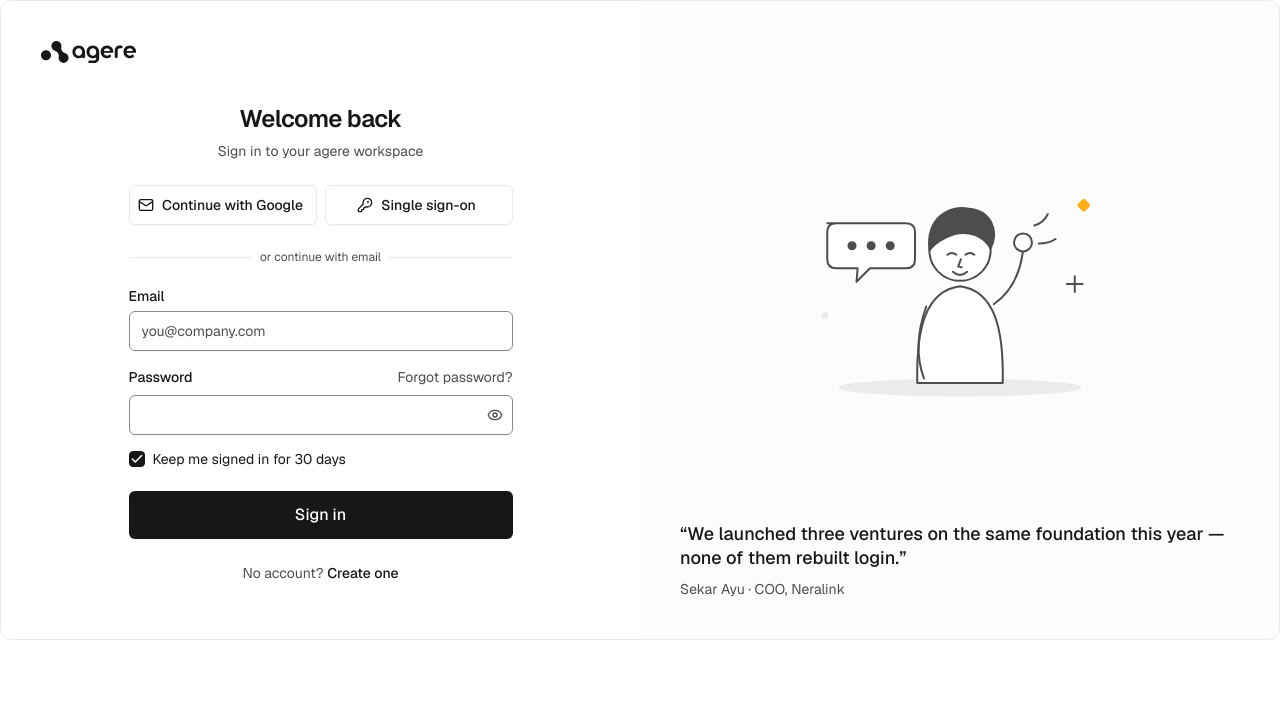
Scenario: Auth blocks › AuthFlow navigates login → forgot → back
This screenshot has width=1280, height=720.
Click the button "Forgot password?" at (455, 377), box [397,367,512,387]
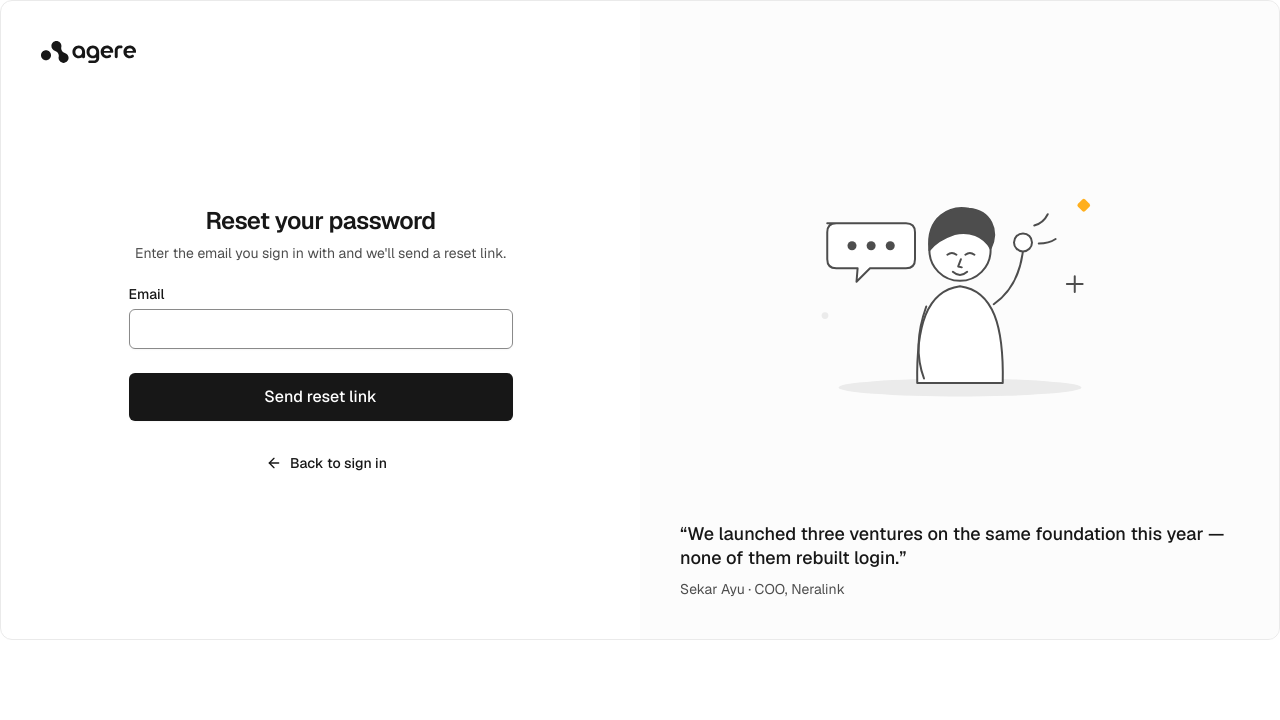
Check: the heading "Reset your password" is shown, box [206,205,435,236]
Click the button "Back to sign in" at (320, 463), box [128,445,512,481]
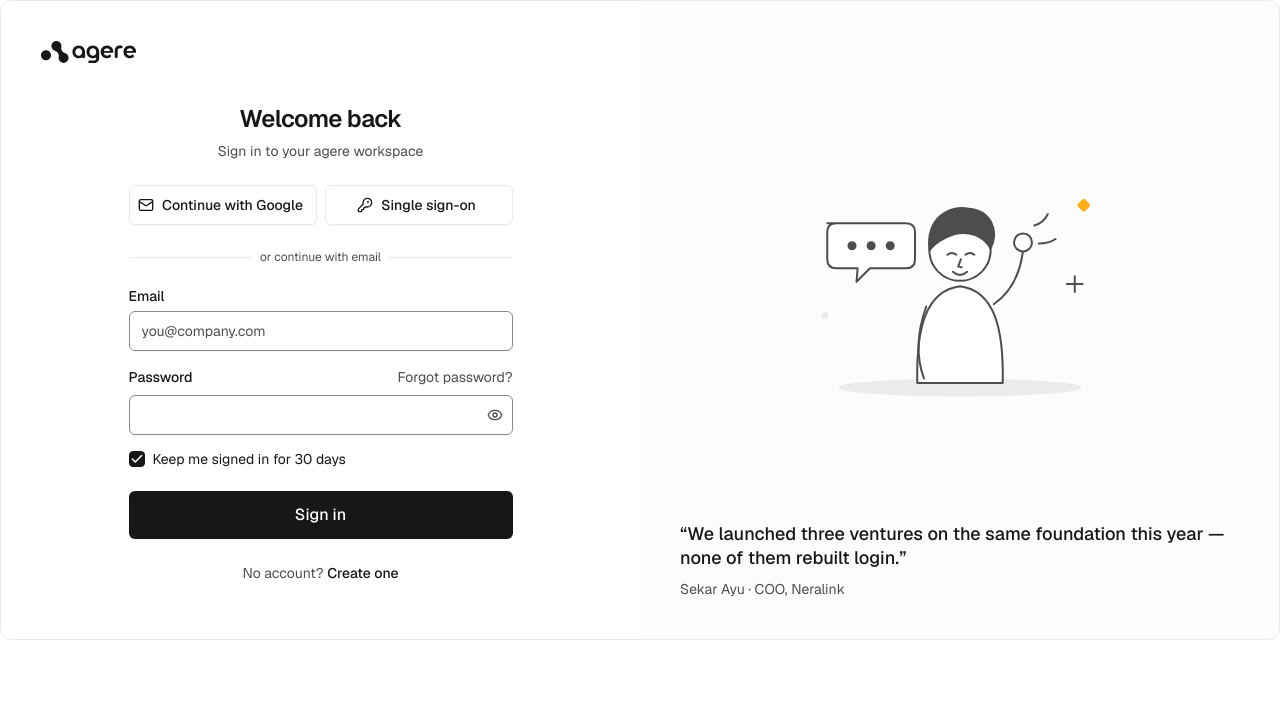
Check: the heading "Welcome back" is shown, box [239,103,402,134]
